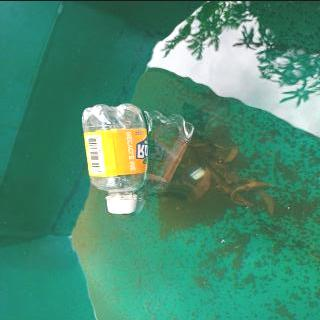bottle: (78, 102, 152, 214)
